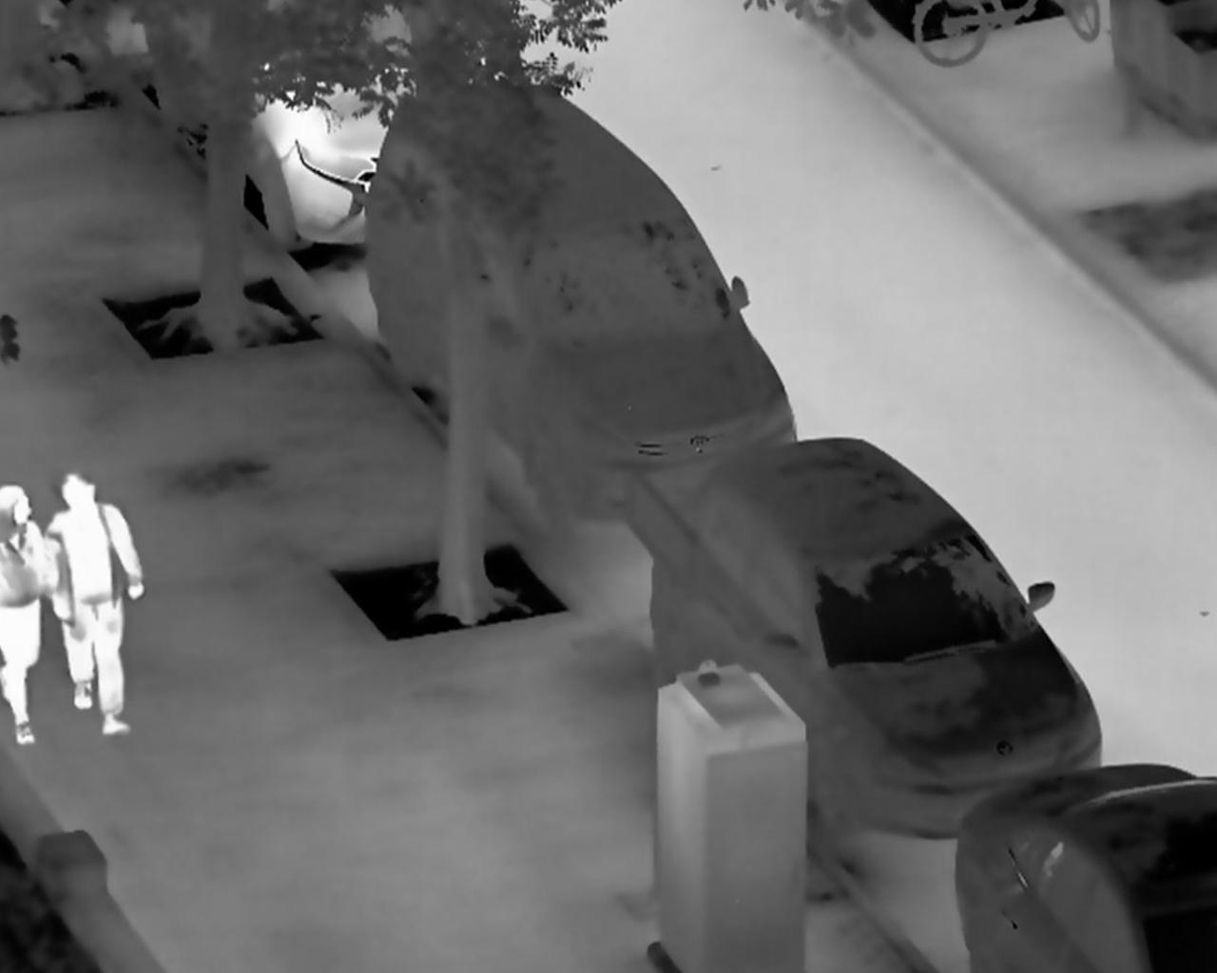person: (44, 473, 147, 740)
